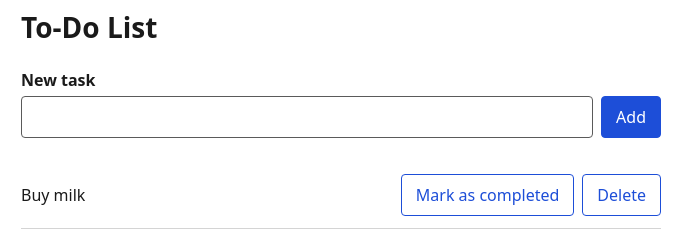
Test: TaskListPage — US3 delete › US3-AS4 (T064): deleting the only task shows "No tasks yet." and focuses the field
Click the button named "Delete: Buy milk" at (622, 195), box x1=582 y1=174 x2=661 y2=216
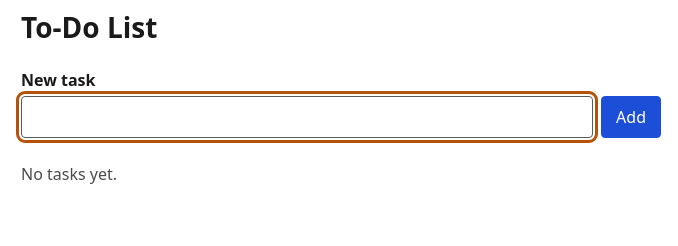
Expected: the text "No tasks yet." is shown, x1=21 y1=163 x2=117 y2=185
